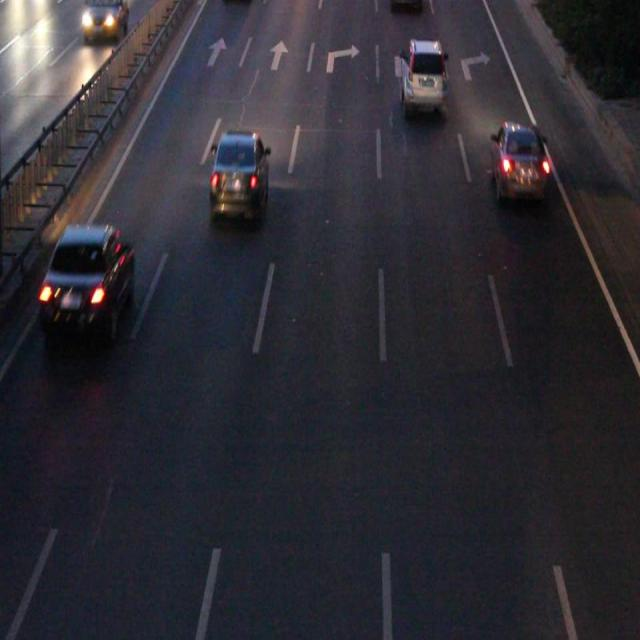car: (45, 225, 133, 331), (211, 132, 268, 215), (487, 125, 544, 197), (400, 40, 446, 114)
